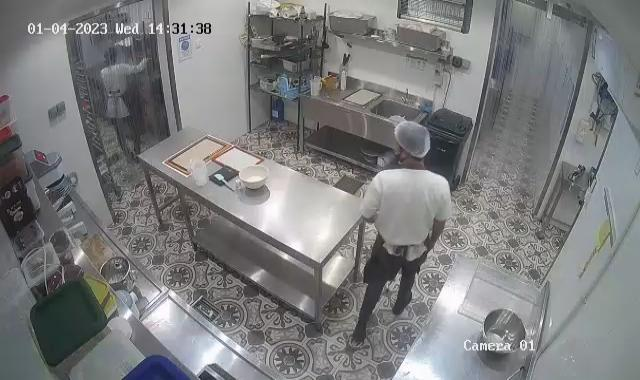hairnet: (393, 118, 431, 160)
